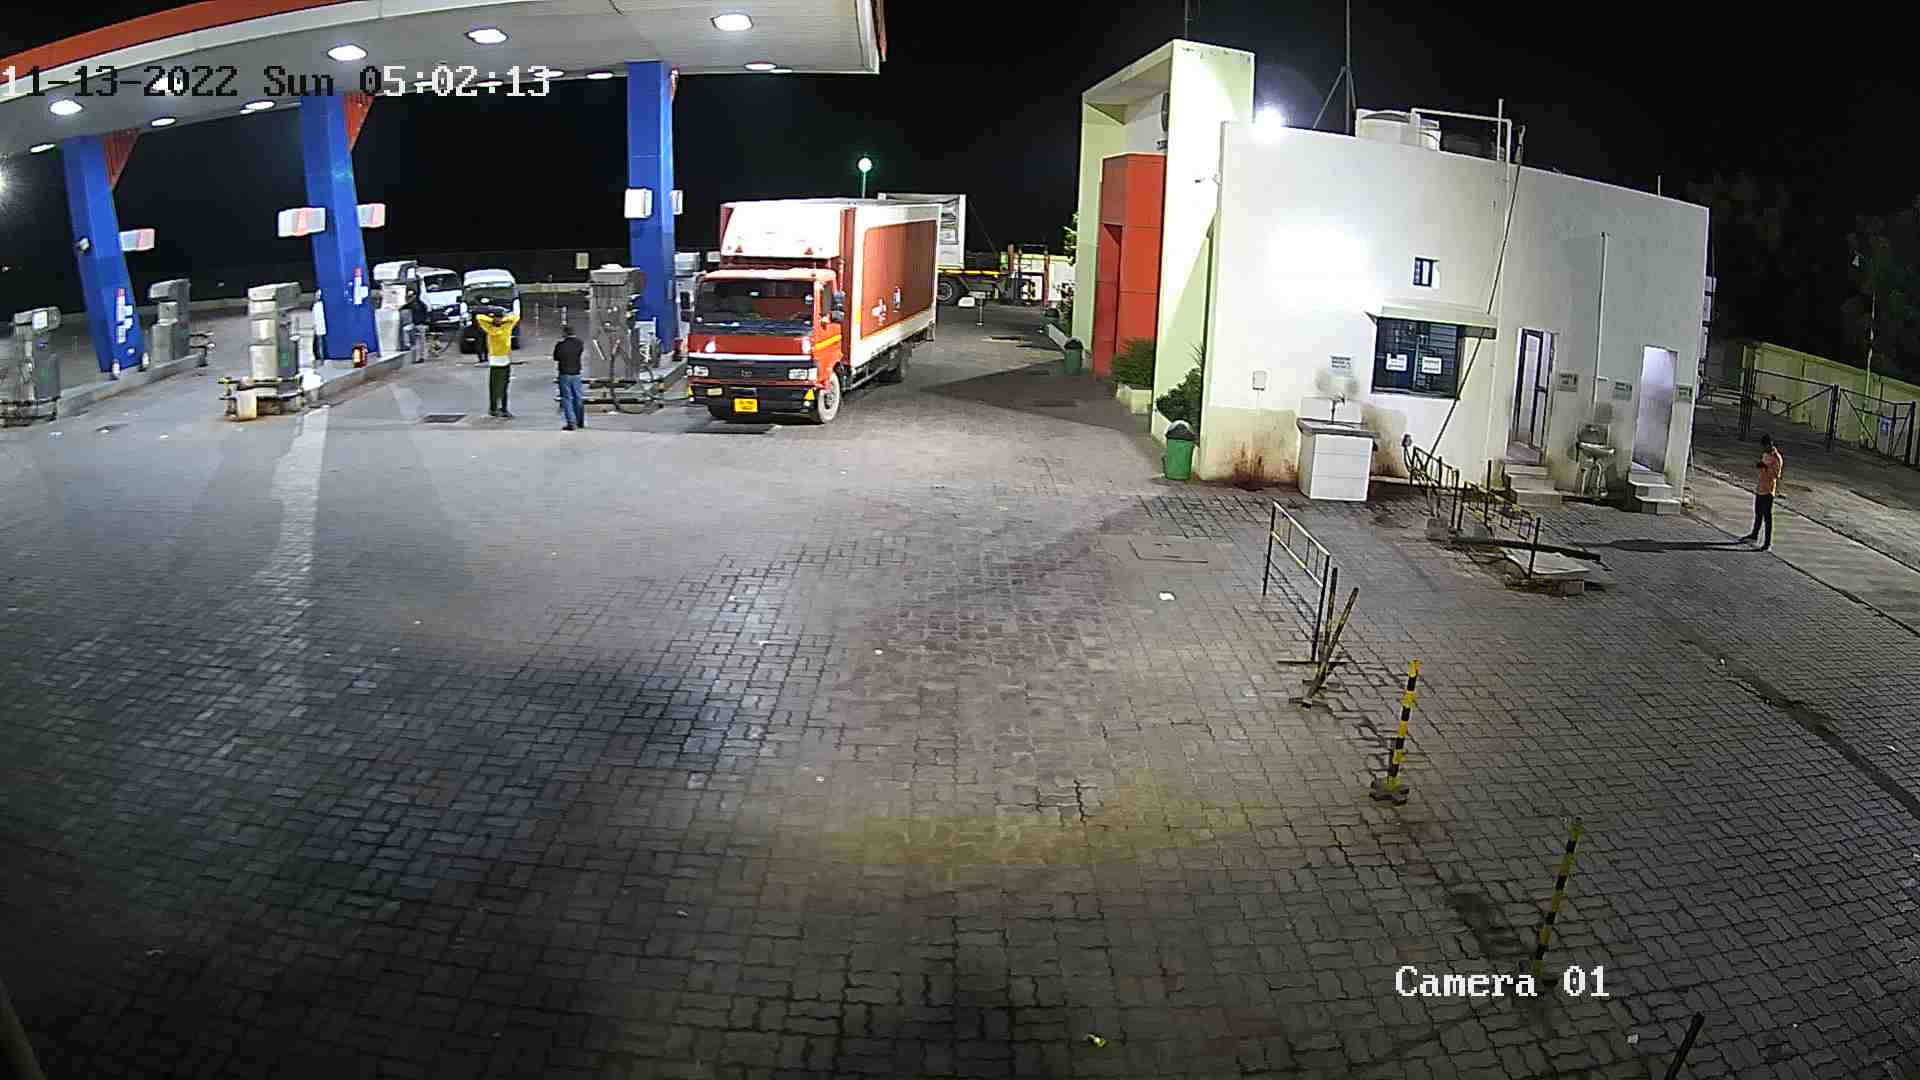Car: (447, 262, 530, 353), (401, 262, 469, 338)
HMV: (665, 187, 947, 433), (872, 187, 1050, 311)
